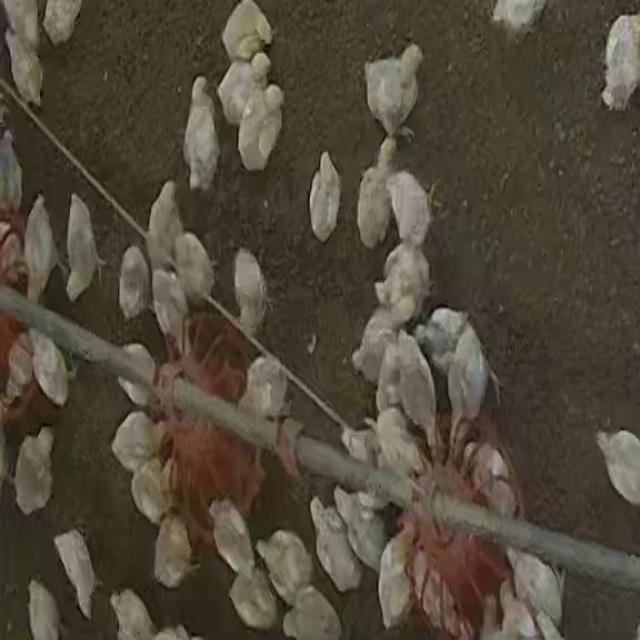chicken: (363, 44, 424, 140), (236, 61, 285, 175), (412, 541, 466, 639), (444, 316, 492, 426), (386, 331, 435, 436), (177, 75, 220, 192), (377, 240, 431, 330), (508, 548, 564, 633), (357, 136, 399, 246), (208, 502, 263, 584), (310, 500, 359, 590), (258, 528, 316, 604), (148, 262, 192, 359), (22, 194, 59, 304), (12, 427, 57, 517), (52, 528, 97, 618), (376, 531, 416, 630), (353, 306, 402, 386), (600, 13, 640, 110), (369, 412, 426, 479), (150, 512, 198, 591), (341, 489, 385, 575), (4, 18, 44, 110), (63, 195, 100, 293), (469, 440, 513, 521), (598, 427, 640, 509), (388, 168, 431, 248), (418, 306, 472, 369), (110, 409, 161, 475), (221, 1, 272, 65), (306, 151, 342, 238), (30, 330, 70, 408), (130, 457, 174, 527), (244, 357, 287, 427), (216, 54, 256, 128), (227, 571, 277, 630), (235, 248, 268, 336), (115, 342, 159, 407), (286, 584, 341, 636), (169, 236, 213, 298), (109, 587, 160, 637), (2, 333, 36, 407), (115, 248, 150, 319), (149, 184, 176, 272), (491, 1, 550, 36), (27, 579, 61, 637), (0, 131, 24, 212), (333, 486, 368, 538), (42, 1, 83, 43)
